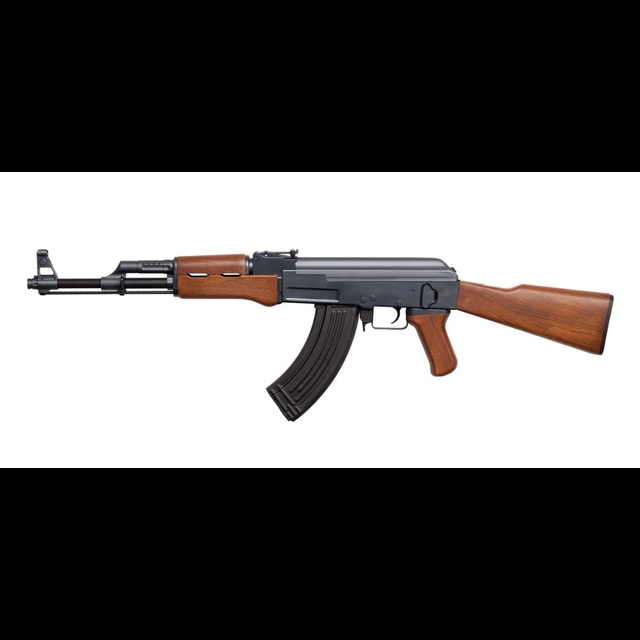AK47: (23, 235, 624, 425)
